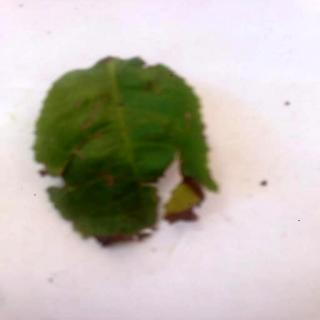Brown Blight: (32, 56, 222, 251)
